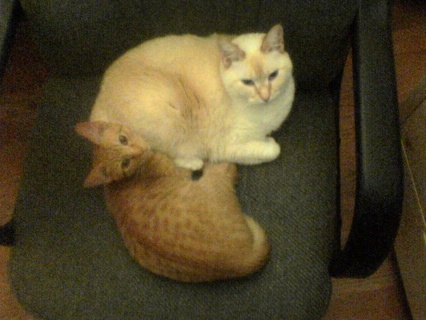Cat: (73, 123, 271, 283), (90, 21, 295, 165)
